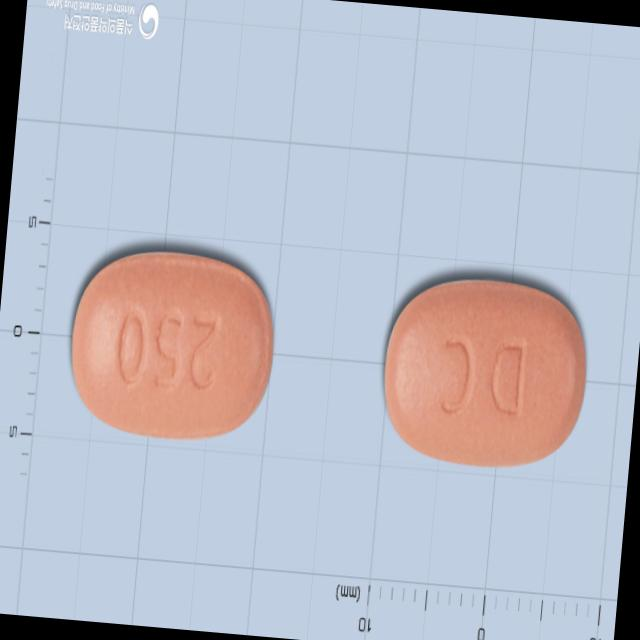Dongkoo Levofloxacin Hydrate Tab-250mg: (374, 268, 594, 476), (62, 242, 280, 449)
